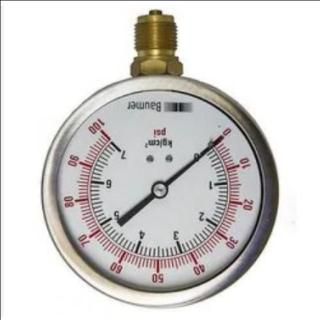gauge: (39, 74, 276, 306), (88, 116, 116, 146), (208, 124, 232, 150), (150, 180, 168, 200), (211, 133, 225, 146)
